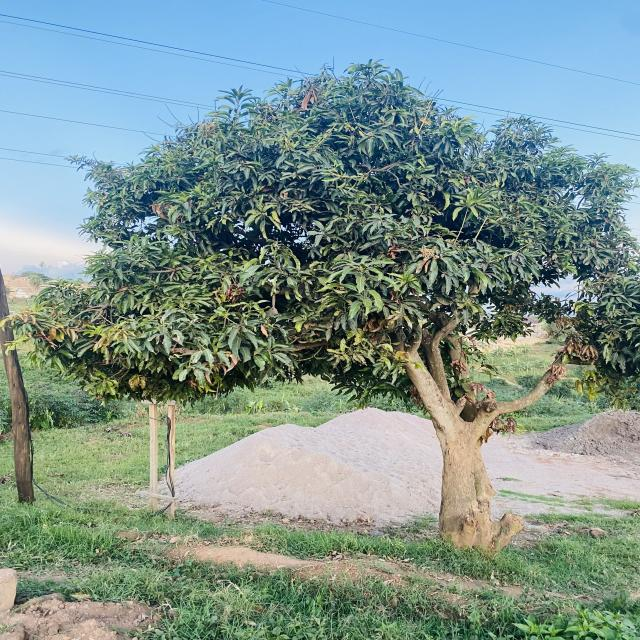Mango-Tree: (8, 39, 640, 536)
